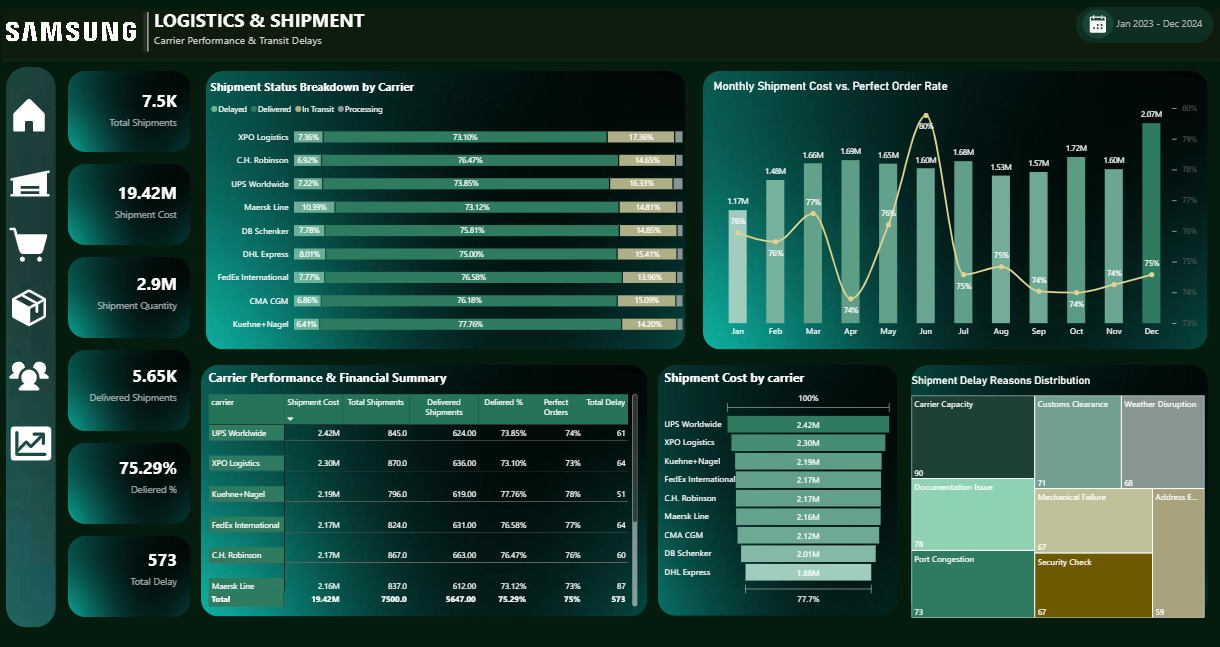

This screenshot's page, from the dashboard's own definition file:
{"tool":"powerbi","page":{"name":"Shipment","canvas":[2035,1080],"ordinal":3},"visuals":[{"type":"shape","box":[0,11.4,2077,91.6],"z":0},{"type":"image","box":[1099.1,607.8,399.5,418],"z":1000},{"type":"image","box":[1519.2,608.3,494.6,418],"z":2000},{"type":"image","box":[337.1,608.6,744.3,418.6],"z":3000},{"type":"image","box":[1172.9,118.6,841.4,464.3],"z":4000},{"type":"image","box":[345.7,118.6,798.6,464.3],"z":5000},{"type":"image","box":[114.4,892.5,203.9,135],"z":6000},{"type":"image","box":[114.4,737.8,203.9,135],"z":7000},{"type":"image","box":[114.4,583.1,203.9,135],"z":8000},{"type":"image","box":[114.4,428.4,203.9,135],"z":9000},{"type":"image","box":[114.4,273.7,203.9,135],"z":10000},{"type":"image","box":[114.4,119,203.9,135],"z":11000},{"type":"cardVisual","fields":{"Data":["Measures_table.Total Shipment"]},"box":[113.1,111.4,199.3,140.5],"z":12000},{"type":"cardVisual","fields":{"Data":["Measures_table.Shipment Cost"]},"box":[113.1,264.3,199.3,140.5],"z":13000},{"type":"cardVisual","fields":{"Data":["Measures_table.Shipment Quantity"]},"box":[112.9,417.2,199.8,140.5],"z":14000},{"type":"cardVisual","fields":{"Data":["Measures_table.Delivered Shipments"]},"box":[112.9,570.1,199.8,140.5],"z":15000},{"type":"cardVisual","fields":{"Data":["Measures_table.Deliered %"]},"box":[112.9,723,199.8,140.5],"z":16000},{"type":"cardVisual","fields":{"Data":["Measures_table.Total Delay"]},"box":[112.9,875.9,199.8,140.5],"z":17000},{"type":"pivotTable","title":"Carrier Performance & Financial Summary","fields":{"Rows":["fact_shipment.carrier"],"Values":["Measures_table.Shipment Cost","Measures_table.Total Shipment","Measures_table.Total_Delivered_Ship","Measures_table.Deliered %","Measures_table.Perfect Order","Measures_table.Total Delay"]},"box":[332.9,600,747.1,427.1],"z":18000},{"type":"lineStackedColumnComboChart","title":"Monthly Shipment Cost vs. Perfect Order Rate","fields":{"Category":["dim_date.year","dim_date.short_month_name"],"Y":["Measures_table.Shipment Cost"],"Y2":["Measures_table.Perfect Order"]},"box":[1174.3,118.6,840,464.3],"z":19000},{"type":"treemap","title":"Shipment Delay Reasons Distribution","fields":{"Group":["fact_shipment.delay_reason"],"Values":["Measures_table.Total Delay"]},"box":[1504.3,608.6,520,437.1],"z":20000},{"type":"hundredPercentStackedBarChart","title":"Shipment Status Breakdown by Carrier","fields":{"Category":["fact_shipment.carrier"],"Series":["fact_shipment.status"],"Y":["Measures_table.Total Shipment"]},"box":[337.1,118.6,818.6,464.3],"z":21000},{"type":"funnel","fields":{"Category":["fact_shipment.carrier"],"Y":["Measures_table.Shipment Cost"]},"box":[1092.9,600,411.4,425.7],"z":22000},{"type":"shape","box":[1795.7,11.4,228.6,60],"z":23000},{"type":"shape","box":[1805.7,15.7,52.9,50],"z":24000},{"type":"shape","title":"LOGISTICS & SHIPMENT","box":[258.6,11.4,408.6,75.7],"z":25000},{"type":"shape","box":[161.4,11.4,172.9,82.9],"z":26000},{"type":"image","box":[0,0,238.9,105.8],"z":27000},{"type":"textbox","box":[1842.9,28.6,181.4,32.9],"z":28000},{"type":"image","box":[1812.9,20,35.7,41.4],"z":29000},{"type":"image","box":[11.4,111.4,82.9,934.3],"z":30000},{"type":"image","box":[15,134.3,70,115],"z":31000},{"type":"image","box":[14.3,454.3,70,115],"z":32000},{"type":"image","box":[14.3,350,70,115],"z":33000},{"type":"image","box":[17.1,250,70,115],"z":34000},{"type":"image","box":[15,566.3,70,115],"z":35000},{"type":"image","box":[11.7,681.7,83.3,115],"z":36000}]}

Visuals, with their boxes in screenshot pixels (x1, y1, x2, y2), scaled from the page's 2035x1080 canvas onto the 1220x647 screenshot:
shape: <bbox>0, 7, 1219, 62</bbox>
image: <bbox>659, 364, 898, 615</bbox>
image: <bbox>911, 364, 1207, 615</bbox>
image: <bbox>202, 365, 648, 615</bbox>
image: <bbox>703, 71, 1208, 349</bbox>
image: <bbox>207, 71, 686, 349</bbox>
image: <bbox>69, 535, 191, 616</bbox>
image: <bbox>69, 442, 191, 523</bbox>
image: <bbox>69, 349, 191, 430</bbox>
image: <bbox>69, 257, 191, 338</bbox>
image: <bbox>69, 164, 191, 245</bbox>
image: <bbox>69, 71, 191, 152</bbox>
cardVisual - Measures_table.Total Shipment: <bbox>68, 67, 187, 151</bbox>
cardVisual - Measures_table.Shipment Cost: <bbox>68, 158, 187, 243</bbox>
cardVisual - Measures_table.Shipment Quantity: <bbox>68, 250, 187, 334</bbox>
cardVisual - Measures_table.Delivered Shipments: <bbox>68, 342, 187, 426</bbox>
cardVisual - Measures_table.Deliered %: <bbox>68, 433, 187, 517</bbox>
cardVisual - Measures_table.Total Delay: <bbox>68, 525, 187, 609</bbox>
"Carrier Performance & Financial Summary" pivotTable: <bbox>200, 359, 647, 615</bbox>
"Monthly Shipment Cost vs. Perfect Order Rate" lineStackedColumnComboChart: <bbox>704, 71, 1208, 349</bbox>
"Shipment Delay Reasons Distribution" treemap: <bbox>902, 365, 1214, 626</bbox>
"Shipment Status Breakdown by Carrier" hundredPercentStackedBarChart: <bbox>202, 71, 693, 349</bbox>
funnel - fact_shipment.carrier x Measures_table.Shipment Cost: <bbox>655, 359, 902, 614</bbox>
shape: <bbox>1077, 7, 1214, 43</bbox>
shape: <bbox>1083, 9, 1114, 39</bbox>
"LOGISTICS & SHIPMENT" shape: <bbox>155, 7, 400, 52</bbox>
shape: <bbox>97, 7, 200, 56</bbox>
image: <bbox>0, 0, 143, 63</bbox>
textbox: <bbox>1105, 17, 1214, 37</bbox>
image: <bbox>1087, 12, 1108, 37</bbox>
image: <bbox>7, 67, 57, 626</bbox>
image: <bbox>9, 80, 51, 149</bbox>
image: <bbox>9, 272, 51, 341</bbox>
image: <bbox>9, 210, 51, 279</bbox>
image: <bbox>10, 150, 52, 219</bbox>
image: <bbox>9, 339, 51, 408</bbox>
image: <bbox>7, 408, 57, 477</bbox>
